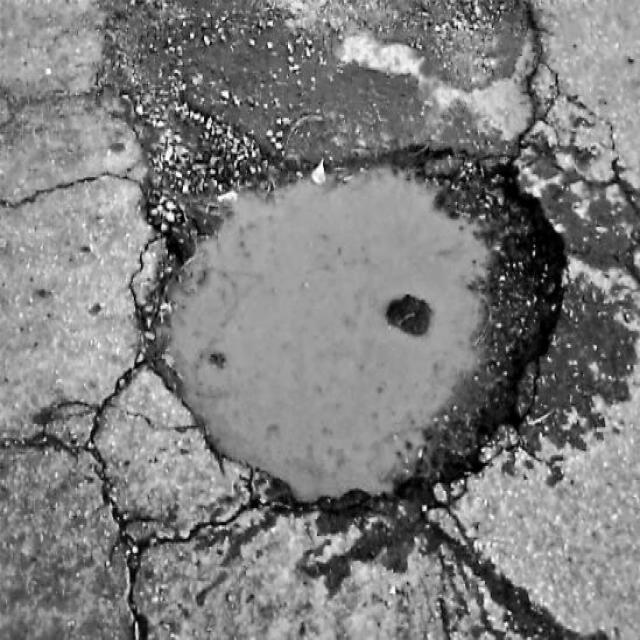pothole: (138, 130, 572, 519)
